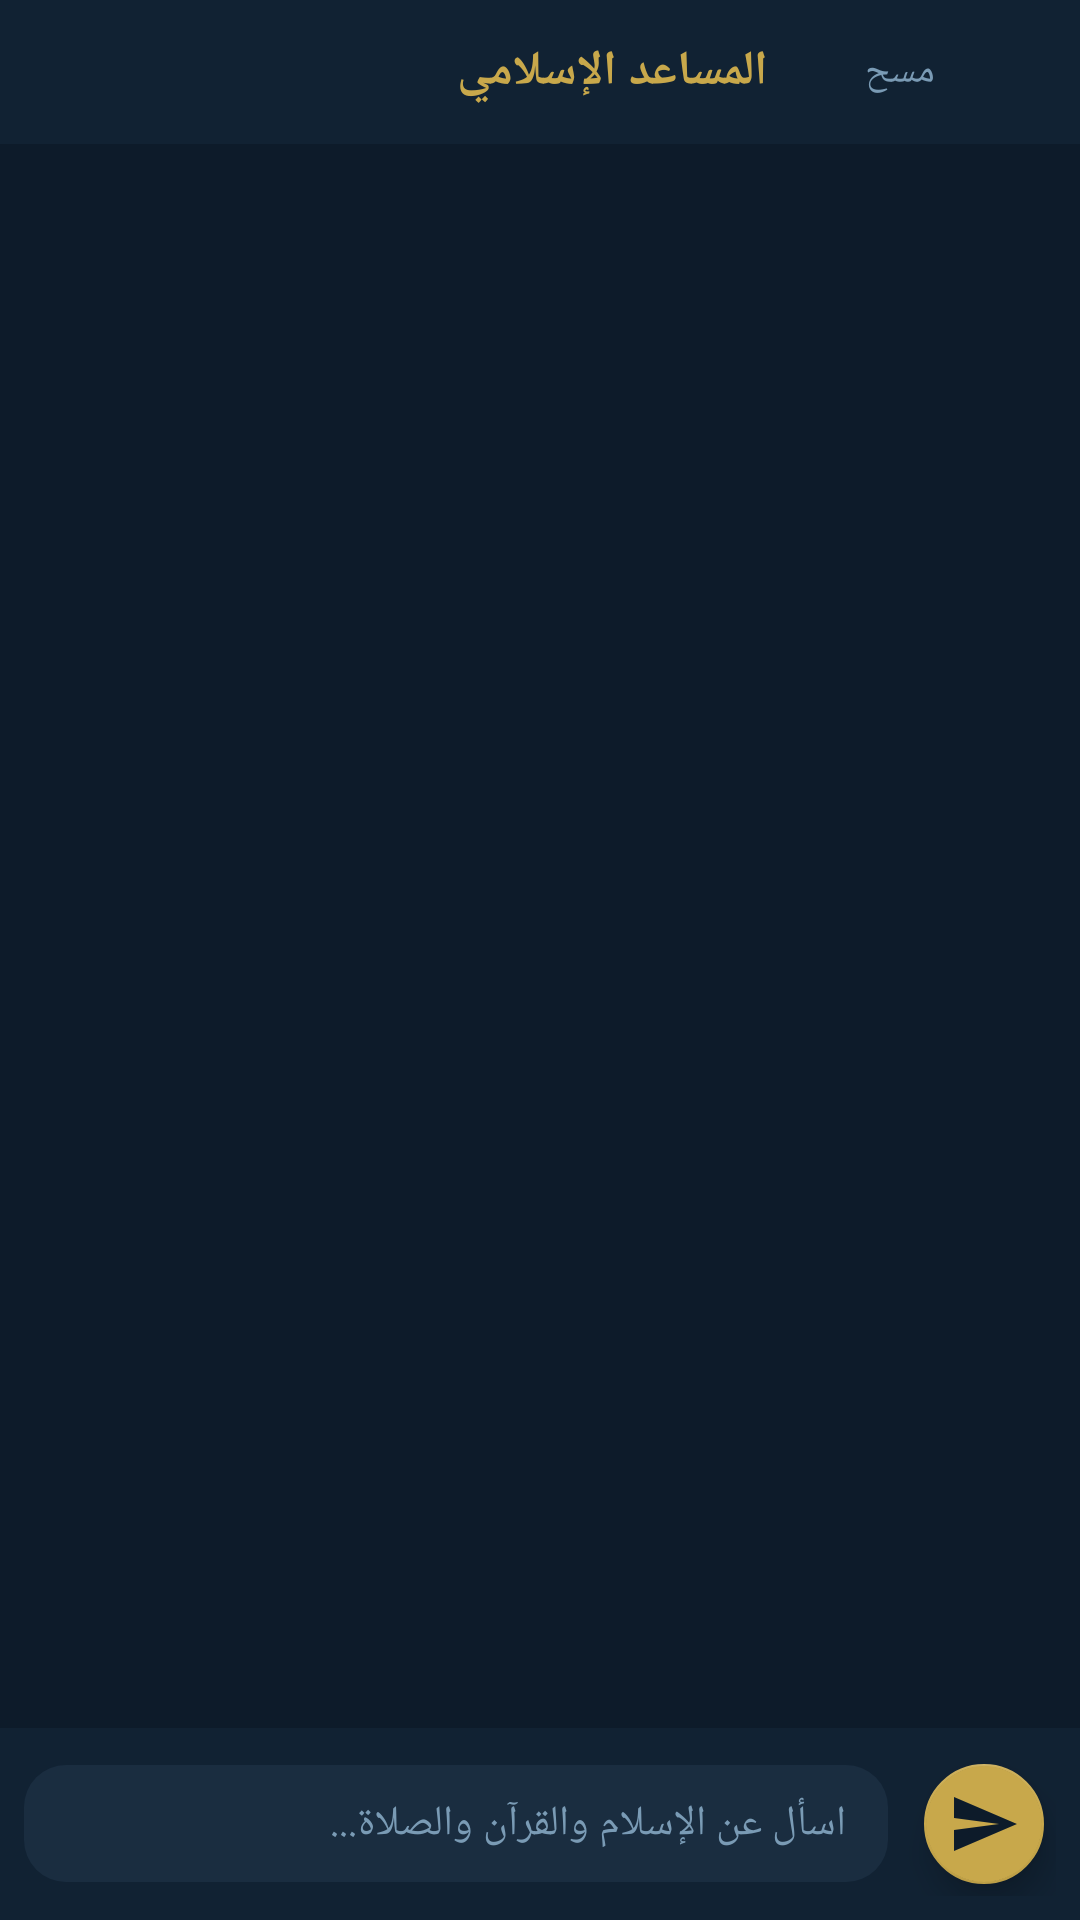

Locate icon controls on the screen. Image size 1080×1920, boxes as (x1, y1, x2, y2).
send: (924, 1764, 1044, 1884)
